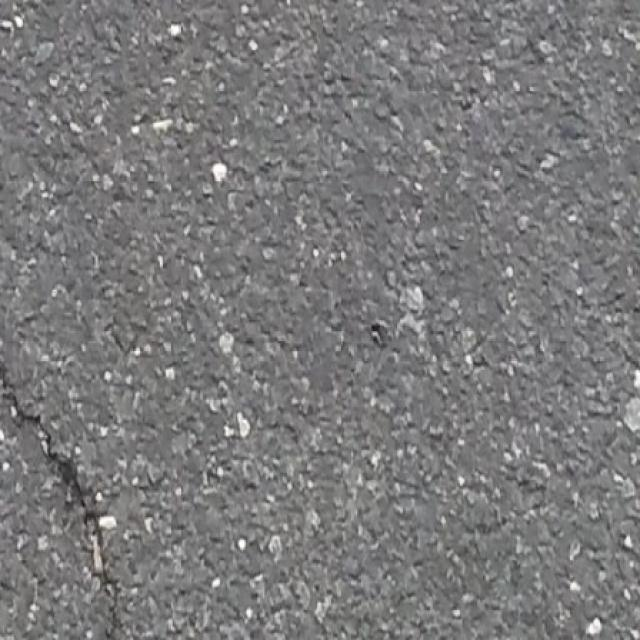Vertical Crack: (0, 358, 125, 640)
